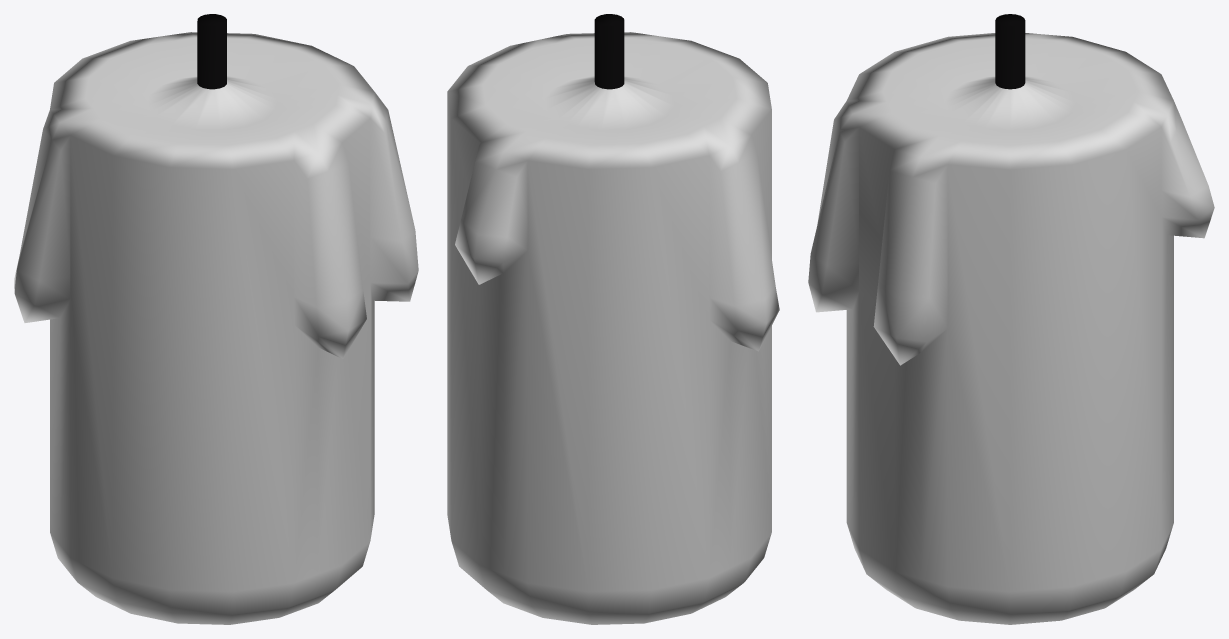
The model's file is candleB.glb.
The picture shows the model from 3 angles, left to right: view 1: azimuth 30°, elevation 25°; view 2: azimuth 150°, elevation 25°; view 3: azimuth 270°, elevation 25°; orthographic projection.
Visible parts, largest first — view 1: candleB_colourA, candleB; view 2: candleB_colourA, candleB; view 3: candleB_colourA, candleB.
Boxes of the visible parts, x1=… form: candleB_colourA: x1=14, y1=32, x2=418, y2=624; candleB: x1=197, y1=14, x2=226, y2=89; candleB_colourA: x1=447, y1=32, x2=779, y2=624; candleB: x1=594, y1=14, x2=624, y2=89; candleB_colourA: x1=808, y1=33, x2=1214, y2=624; candleB: x1=995, y1=14, x2=1025, y2=89.
Size of the model in its own units: 0.2341 by 0.3704 by 0.2458.
2 materials, 1 textured.
